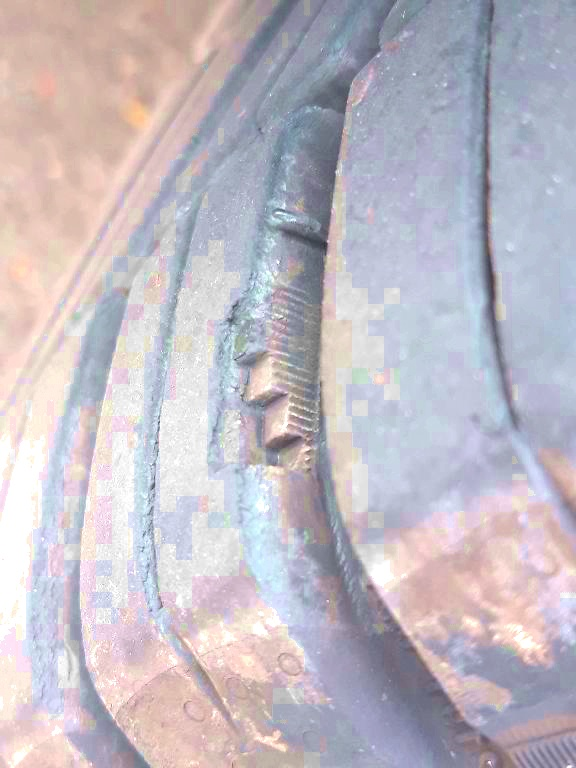temoin:80: (196, 265, 328, 489)
